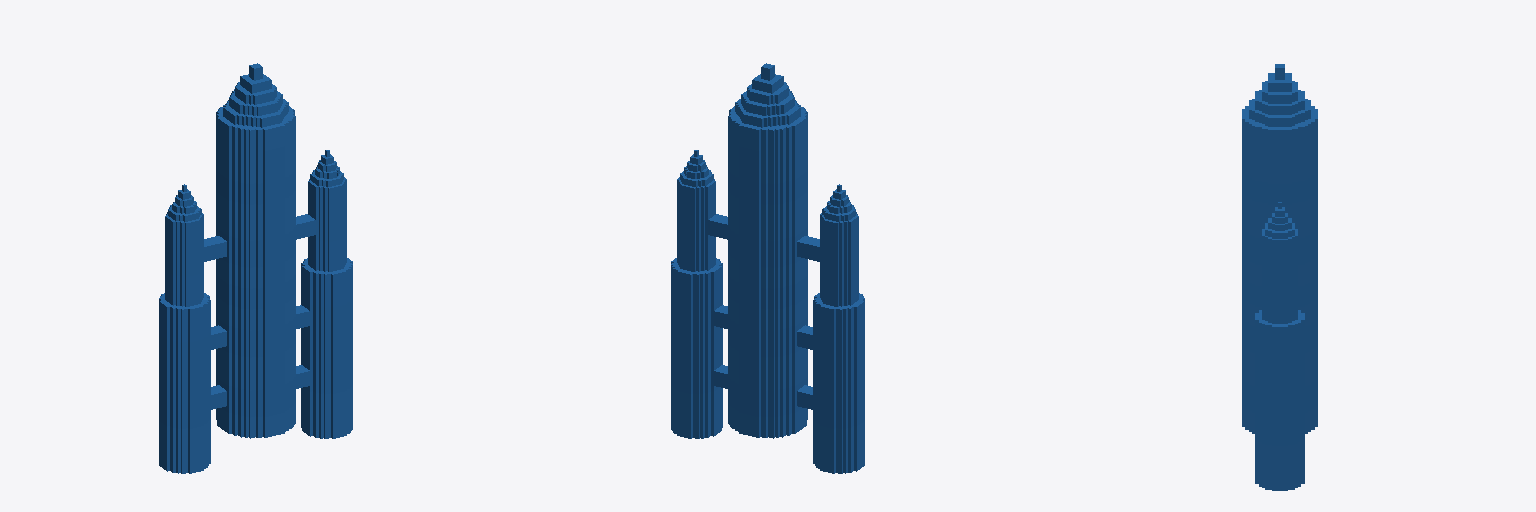
3 views of the same model, side by side, from view 1: azimuth 30°, elevation 25°; view 2: azimuth 150°, elevation 25°; view 3: azimuth 270°, elevation 25° (orthographic).
Parts seen in each view (by area): view 1: object 1; view 2: object 1; view 3: object 1.
Part boxes in pixels (bbox=[...]): object 1: bbox=[159, 63, 352, 473]; object 1: bbox=[671, 63, 864, 473]; object 1: bbox=[1242, 64, 1317, 490].
Bounding box in the file's own units: 6.5 × 12.7 × 2.3.
Materials: 1 (1 with a texture image).